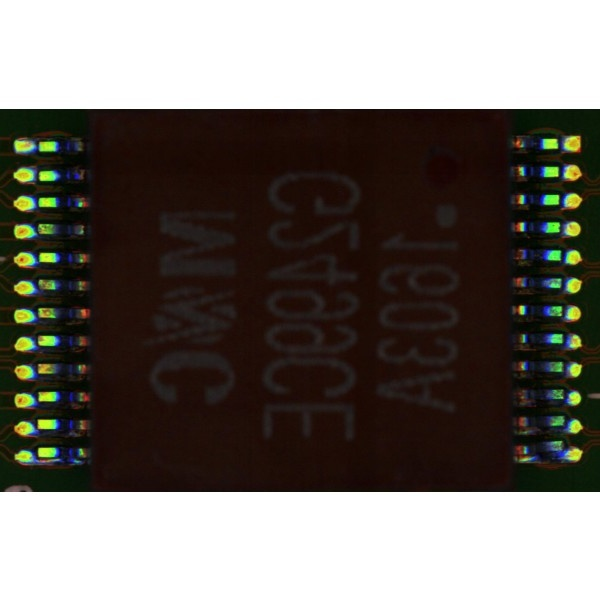Bad_qiaojiao: (38, 458, 77, 464)
